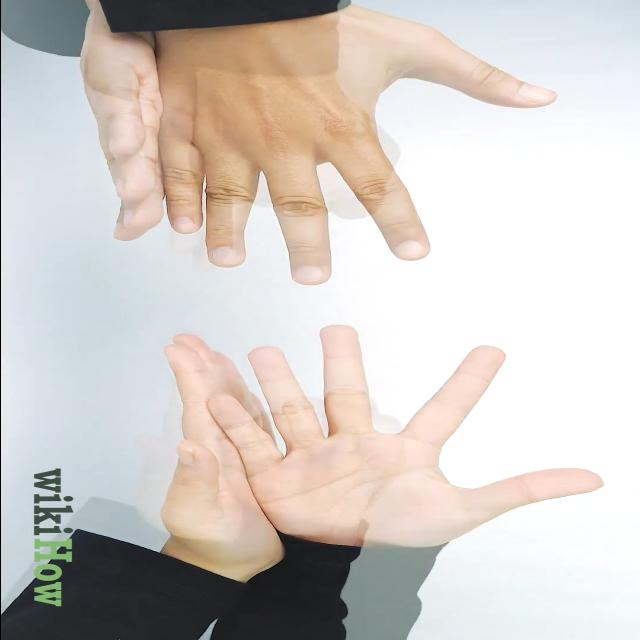Paper: (153, 8, 560, 288), (205, 326, 603, 548)
